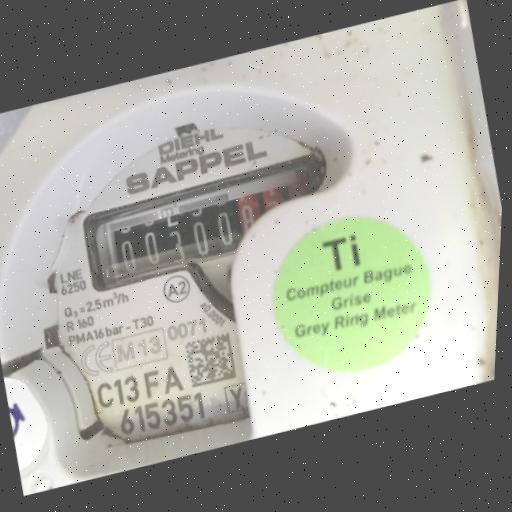0: (113, 231, 145, 278), (186, 215, 217, 262), (210, 207, 241, 254), (137, 225, 167, 271)
3: (161, 222, 192, 267)
8: (236, 199, 264, 237)
border_water_meter_number: (86, 161, 328, 292)
